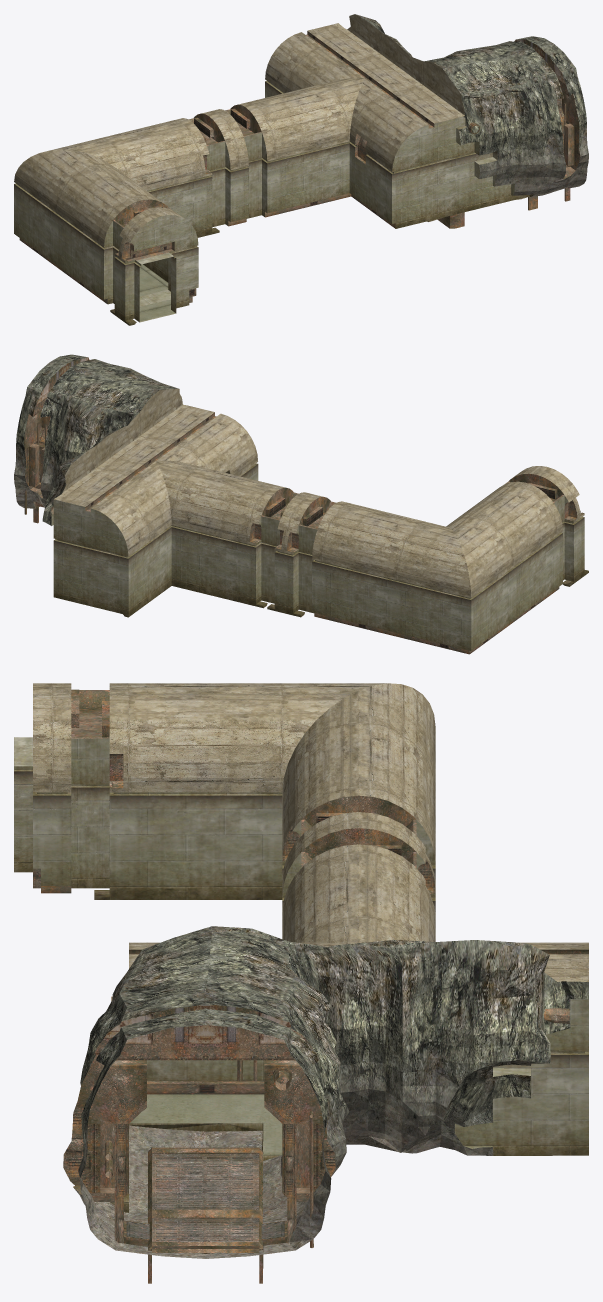
Rendered from poi_all_bunker_mad_bio_s01_r9_transition3_mesh_r9.fbx.
The picture shows the model from 3 angles, top to bottom: view 1: azimuth 30°, elevation 25°; view 2: azimuth 150°, elevation 25°; view 3: azimuth 270°, elevation 25°; orthographic projection. The views are drawn at different scales.
Visible parts, largest first — view 1: mesh_node; view 2: mesh_node; view 3: mesh_node.
Boxes of the visible parts, x1=… form: mesh_node: x1=14, y1=14, x2=588, y2=325; mesh_node: x1=14, y1=354, x2=588, y2=654; mesh_node: x1=14, y1=683, x2=588, y2=1283.
Bounding box in the file's own units: 26 × 7.64 × 15.
